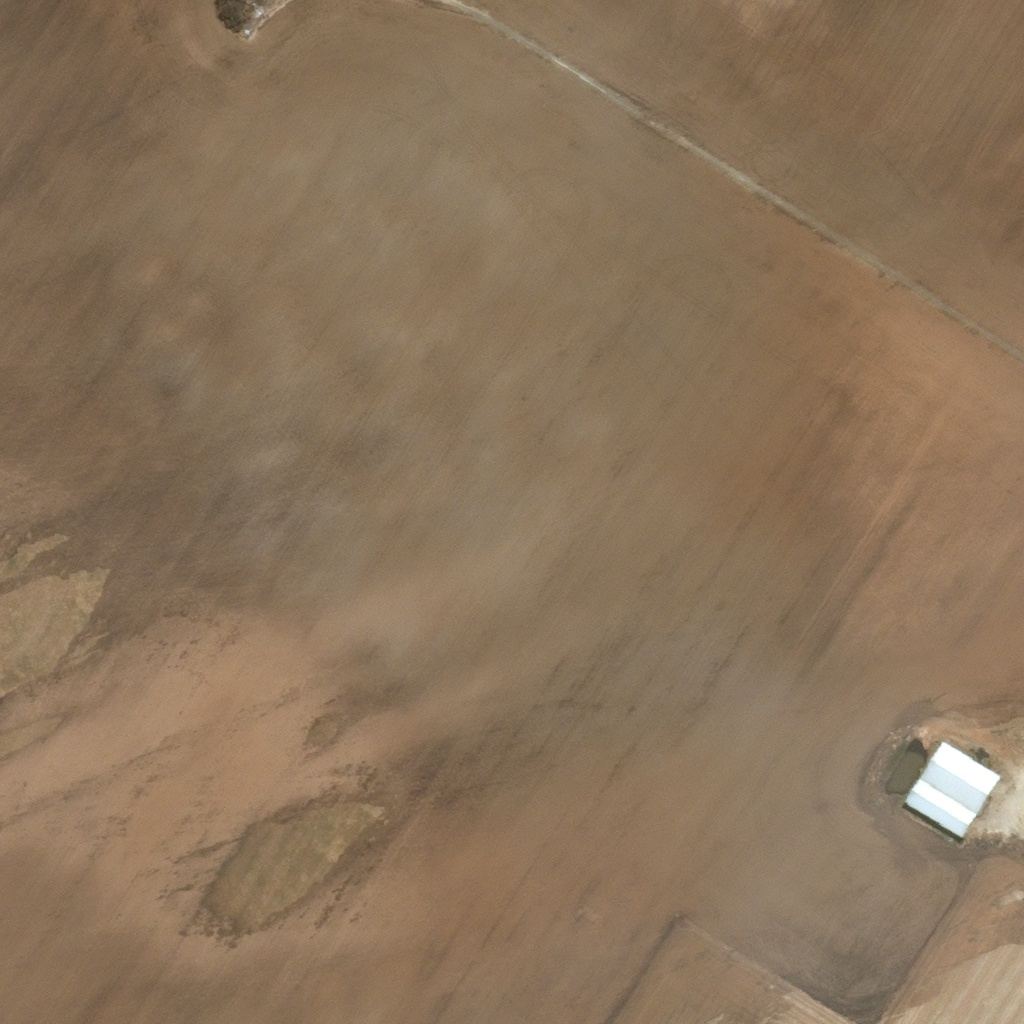0 no-damage: (901, 740, 1001, 841)
